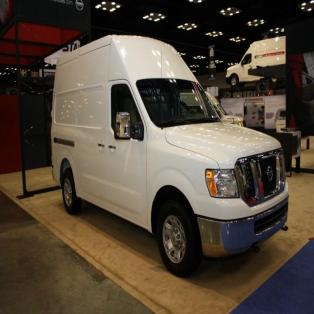Auto: (50, 35, 290, 277)
